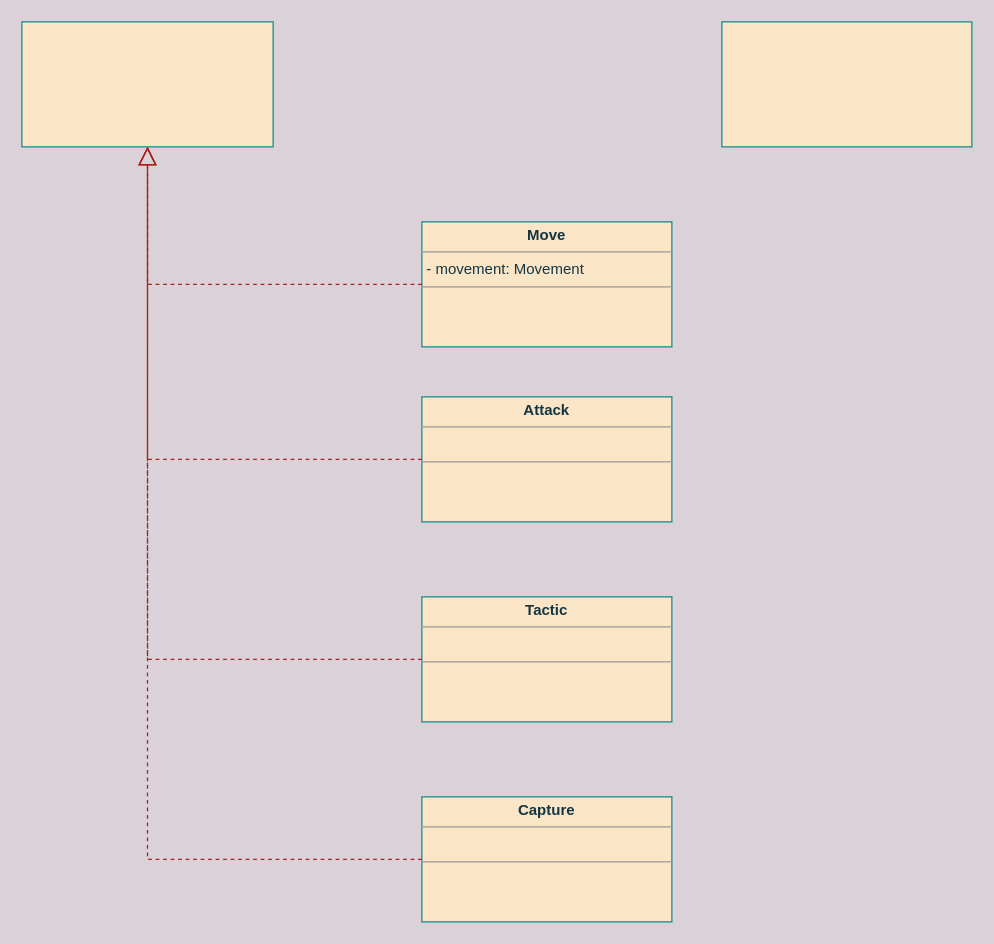
This 994x944 diagram has some shape labels left out. The box of each missing label's shape, as (x1, y1, x2, y2) in pixels:
<<Interface>> Action: (21, 21, 273, 147)
<<Interface>> Movement: (721, 21, 972, 147)
